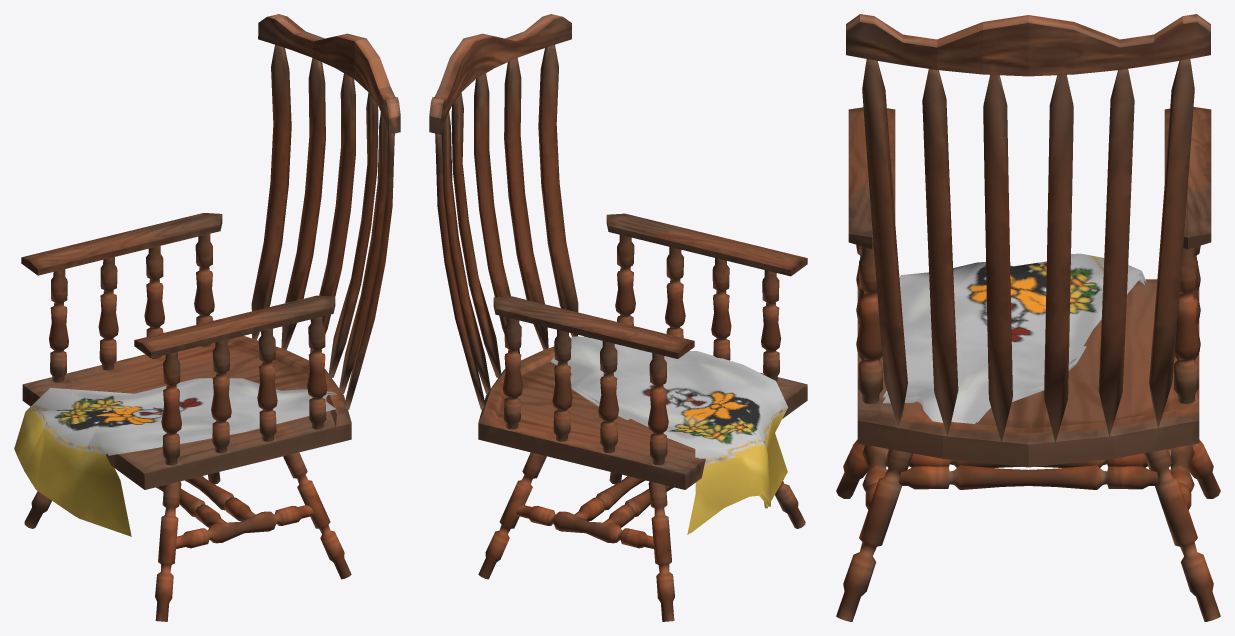
Rendered from RockingChair.fbx.
The picture shows the model from 3 angles, left to right: view 1: azimuth 30°, elevation 25°; view 2: azimuth 150°, elevation 25°; view 3: azimuth 270°, elevation 25°; orthographic projection. The views are drawn at different scales.
Parts seen in each view (by area): view 1: RockingChairSeat_low, RockingChairDetails_low, RockingChairBack_low, RockingChairCloth_low; view 2: RockingChairSeat_low, RockingChairDetails_low, RockingChairBack_low, RockingChairCloth_low; view 3: RockingChairBack_low, RockingChairSeat_low, RockingChairDetails_low, RockingChairCloth_low.
Boxes of the visible parts, x1,y1,x2,y2 form: RockingChairSeat_low: [21, 14, 400, 489]; RockingChairDetails_low: [24, 234, 351, 621]; RockingChairBack_low: [251, 44, 394, 409]; RockingChairCloth_low: [14, 378, 337, 536]; RockingChairSeat_low: [429, 14, 807, 489]; RockingChairDetails_low: [478, 235, 805, 621]; RockingChairBack_low: [435, 45, 578, 409]; RockingChairCloth_low: [550, 336, 788, 534]; RockingChairBack_low: [862, 59, 1194, 442]; RockingChairSeat_low: [846, 14, 1211, 467]; RockingChairDetails_low: [836, 245, 1220, 621]; RockingChairCloth_low: [883, 253, 1146, 423].
Bounding box in the file's own units: 1.35 × 1.88 × 0.996.
